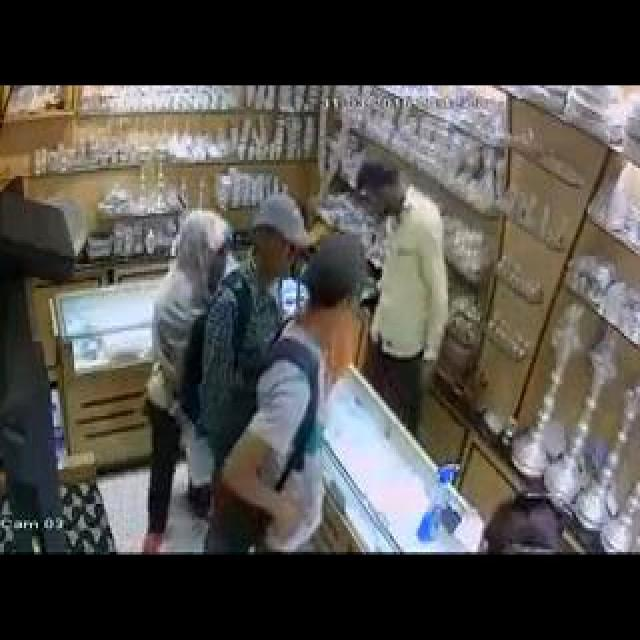Shoplifting: (122, 175, 384, 554)
